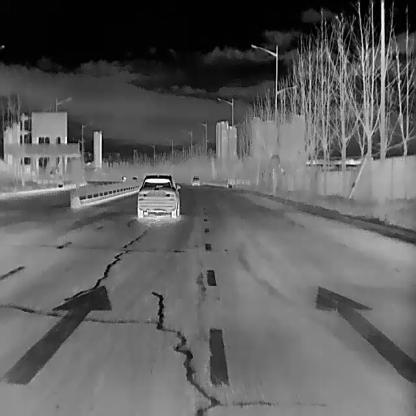car: (136, 173, 180, 219), (190, 175, 200, 185)
